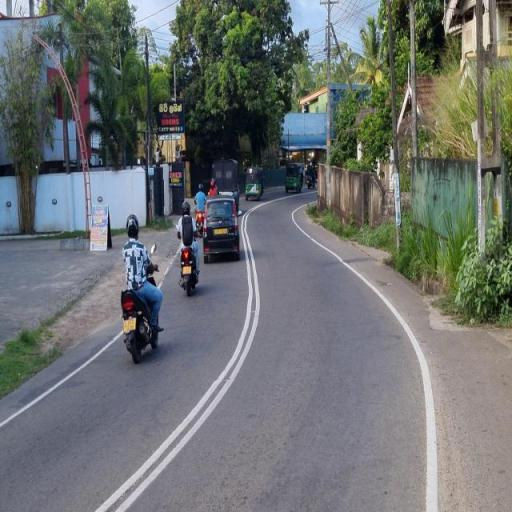double_white_line: (96, 203, 261, 512)
